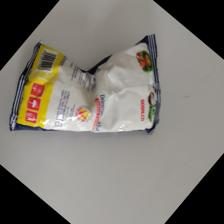Salt: (9, 33, 165, 136)
